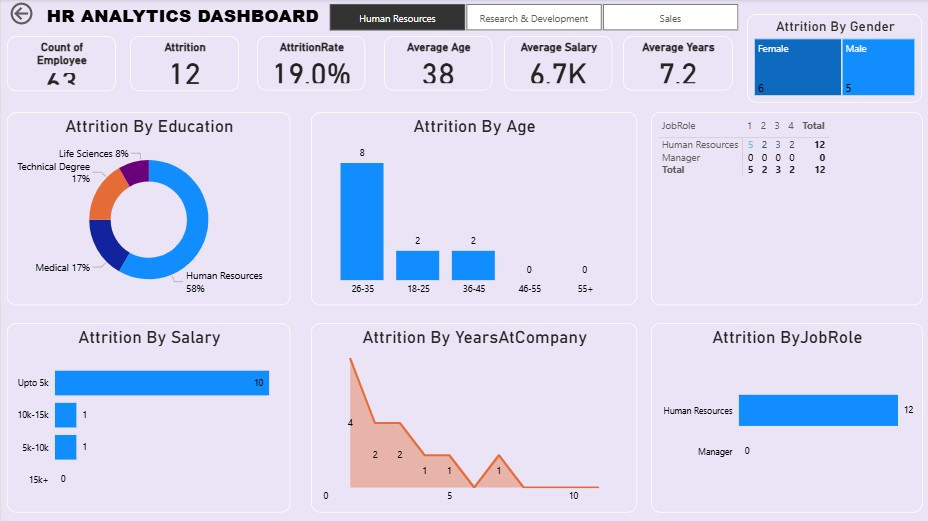

This screenshot's page, from the dashboard's own definition file:
{"tool":"powerbi","page":{"name":"Page 1","canvas":[1280,720],"ordinal":0},"visuals":[{"type":"card","title":"Count of Employee","fields":{"Values":["CountNonNull(HR_Analytics.EmpID)"]},"box":[8.3,50.4,149.5,75.6],"z":0},{"type":"card","title":"Attrition","fields":{"Values":["Sum(HR_Analytics.AttritionCount)"]},"box":[177.9,50.4,149.5,75.6],"z":1000},{"type":"card","title":"AttritionRate","fields":{"Values":["HR_Analytics.AttritionRate"]},"box":[351.8,50.3,149.1,75.4],"z":2000},{"type":"card","title":"Average Age","fields":{"Values":["Avg(HR_Analytics.Age)"]},"box":[527.7,50.3,149.1,75.4],"z":3000},{"type":"card","title":"Average Salary","fields":{"Values":["Avg(HR_Analytics.MonthlyIncome)"]},"box":[691.9,50.3,149.1,75.4],"z":4000},{"type":"card","title":"Average Years","fields":{"Values":["Avg(HR_Analytics.YearsAtCompany)"]},"box":[856.1,50.3,150.8,75.4],"z":5000},{"type":"donutChart","title":"Attrition By Education","fields":{"Category":["HR_Analytics.EducationField"],"Y":["Sum(HR_Analytics.AttritionCount)"]},"box":[8.4,155.8,390.4,266.4],"z":6000},{"type":"columnChart","title":"Attrition By Age","fields":{"Category":["HR_Analytics.AgeGroup"],"Y":["Sum(HR_Analytics.AttritionCount)"]},"box":[427.2,155.8,449,266.4],"z":7000},{"type":"pivotTable","fields":{"Rows":["HR_Analytics.JobRole"],"Columns":["HR_Analytics.JobSatisfaction"],"Values":["Sum(HR_Analytics.AttritionCount)"]},"box":[894.7,155.8,373.6,266.4],"z":8000},{"type":"actionButton","box":[8.3,0,100,40],"z":9000},{"type":"clusteredBarChart","title":"Attrition By Salary","fields":{"Category":["HR_Analytics.SalarySlab"],"Y":["Sum(HR_Analytics.AttritionCount)"]},"box":[8.4,445.7,390.4,261.4],"z":10000},{"type":"clusteredBarChart","title":"Attrition ByJobRole","fields":{"Category":["HR_Analytics.JobRole"],"Y":["Sum(HR_Analytics.AttritionCount)"]},"box":[894.7,445.7,373.6,261.4],"z":11000},{"type":"stackedAreaChart","title":"Attrition By YearsAtCompany","fields":{"Category":["HR_Analytics.YearsAtCompany"],"Y":["Sum(HR_Analytics.AttritionCount)"]},"box":[427.2,445.7,449,261.4],"z":12000},{"type":"treemap","title":"Attrition By Gender","fields":{"Group":["HR_Analytics.Gender"],"Values":["Sum(HR_Analytics.AttritionCount)"]},"box":[1027,20.1,241.3,122.3],"z":13000},{"type":"slicer","fields":{"Values":["HR_Analytics.Department"]},"box":[427.2,0,611.5,50.3],"z":14000},{"type":"textbox","box":[0,0,500.9,50.3],"z":15000}]}

Visuals, with their boxes in screenshot pixels (x1, y1, x2, y2), scaled from the page's 1280x720 canvas onto the 928x521 screenshot:
"Count of Employee" card: bbox=[6, 36, 114, 91]
"Attrition" card: bbox=[129, 36, 237, 91]
"AttritionRate" card: bbox=[255, 36, 363, 91]
"Average Age" card: bbox=[383, 36, 491, 91]
"Average Salary" card: bbox=[502, 36, 610, 91]
"Average Years" card: bbox=[621, 36, 730, 91]
"Attrition By Education" donutChart: bbox=[6, 113, 289, 306]
"Attrition By Age" columnChart: bbox=[310, 113, 635, 306]
pivotTable - HR_Analytics.JobRole x HR_Analytics.JobSatisfaction: bbox=[649, 113, 920, 306]
actionButton: bbox=[6, 0, 79, 29]
"Attrition By Salary" clusteredBarChart: bbox=[6, 323, 289, 512]
"Attrition ByJobRole" clusteredBarChart: bbox=[649, 323, 920, 512]
"Attrition By YearsAtCompany" stackedAreaChart: bbox=[310, 323, 635, 512]
"Attrition By Gender" treemap: bbox=[745, 15, 920, 103]
slicer - HR_Analytics.Department: bbox=[310, 0, 753, 36]
textbox: bbox=[0, 0, 363, 36]
